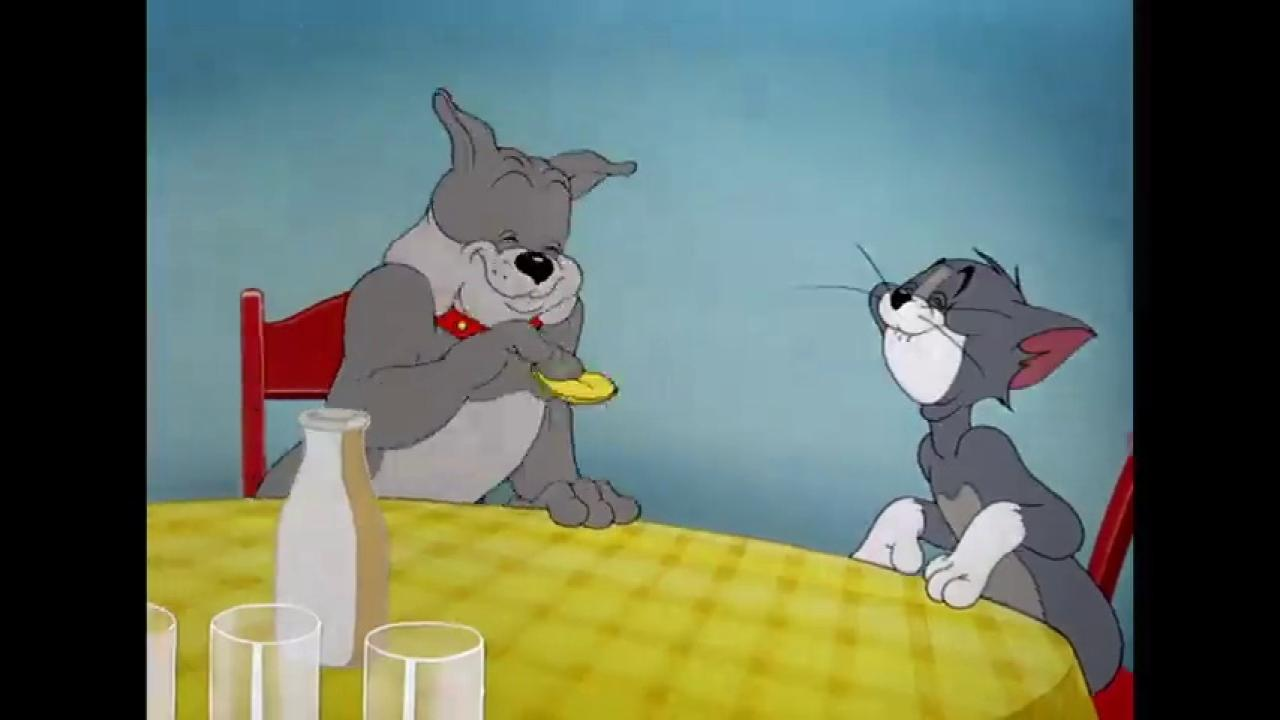Tom: (847, 243, 1125, 693)
